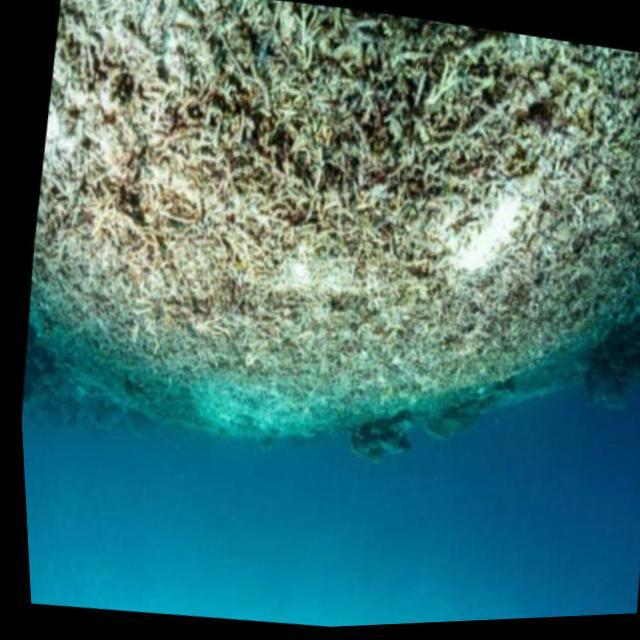Dead Coral: (50, 47, 598, 444)
